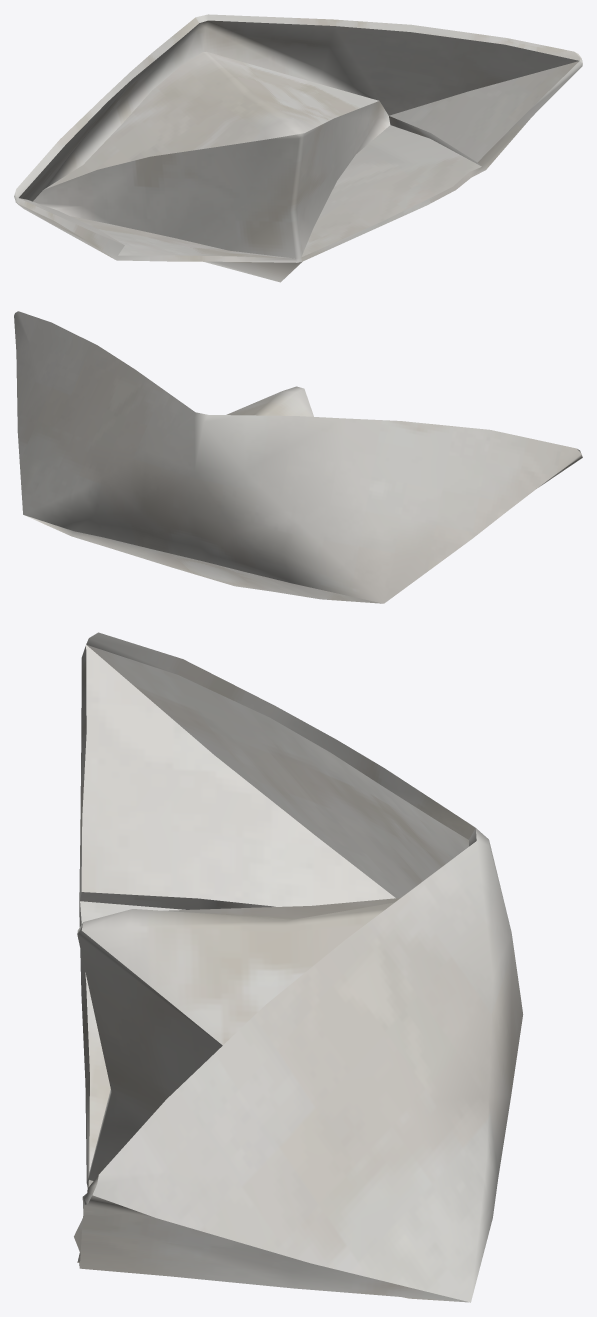
The model's file is ref_gtpaperboat.fbx.
3 renders of one model, top to bottom at view 1: azimuth 30°, elevation 25°; view 2: azimuth 150°, elevation 25°; view 3: azimuth 270°, elevation 25°, orthographic. The views are drawn at different scales.
Visible parts, largest first — view 1: ref_gtpaperboat; view 2: ref_gtpaperboat; view 3: ref_gtpaperboat.
Boxes of the visible parts, left/top/right/bottom form: ref_gtpaperboat: left=14, top=14, right=582, bottom=282; ref_gtpaperboat: left=14, top=311, right=582, bottom=603; ref_gtpaperboat: left=74, top=632, right=523, bottom=1302.
Size of the model in its own units: 100 by 35.11 by 34.28.
